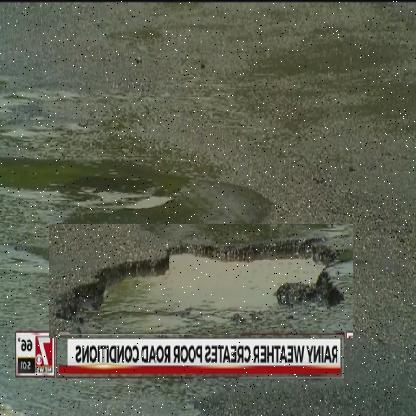pothole_water: (48, 224, 353, 339)
